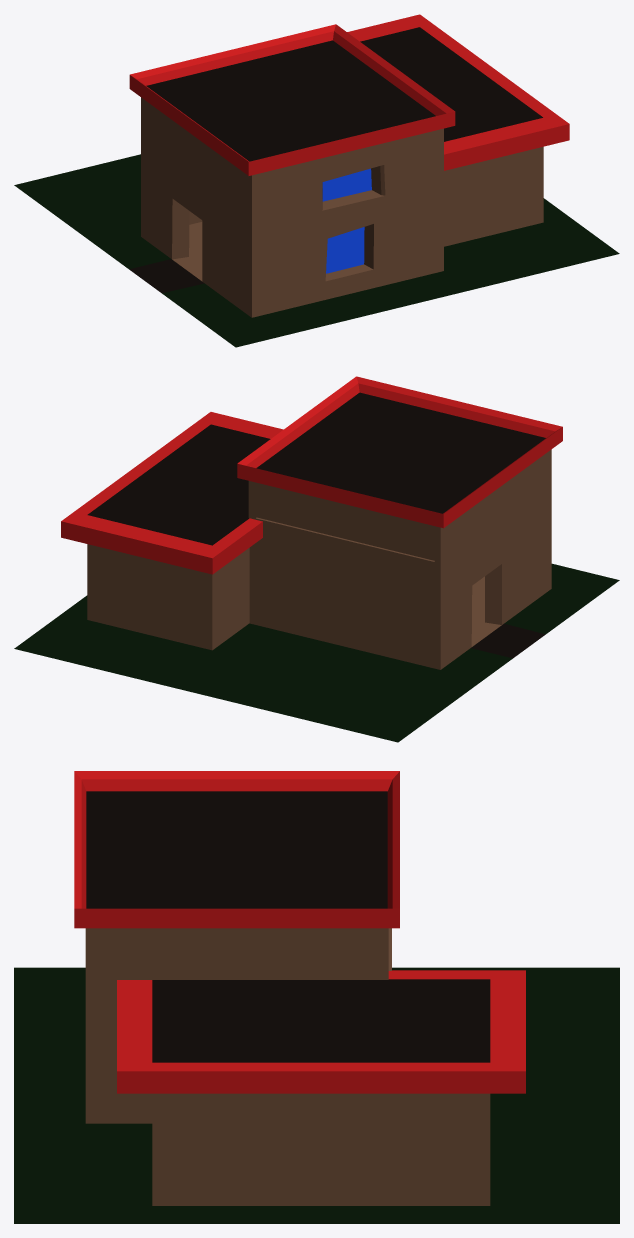
Rendered from house_demo1.obj.
3 views of the same model, one above another, from view 1: azimuth 30°, elevation 25°; view 2: azimuth 150°, elevation 25°; view 3: azimuth 270°, elevation 25° (orthographic). The views are drawn at different scales.
Visible parts, largest first — view 1: Cube.001; view 2: Cube.001; view 3: Cube.001.
Part boxes in pixels (x1=…): Cube.001: x1=14, y1=14, x2=619, y2=347; Cube.001: x1=14, y1=376, x2=619, y2=742; Cube.001: x1=14, y1=771, x2=619, y2=1223.
Bounding box in the file's own units: 20 × 8.01 × 20.
